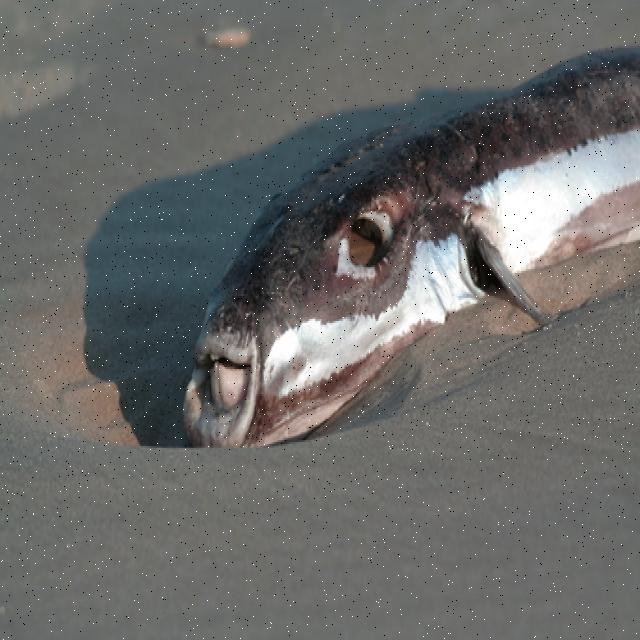Balik: (185, 49, 639, 445)
